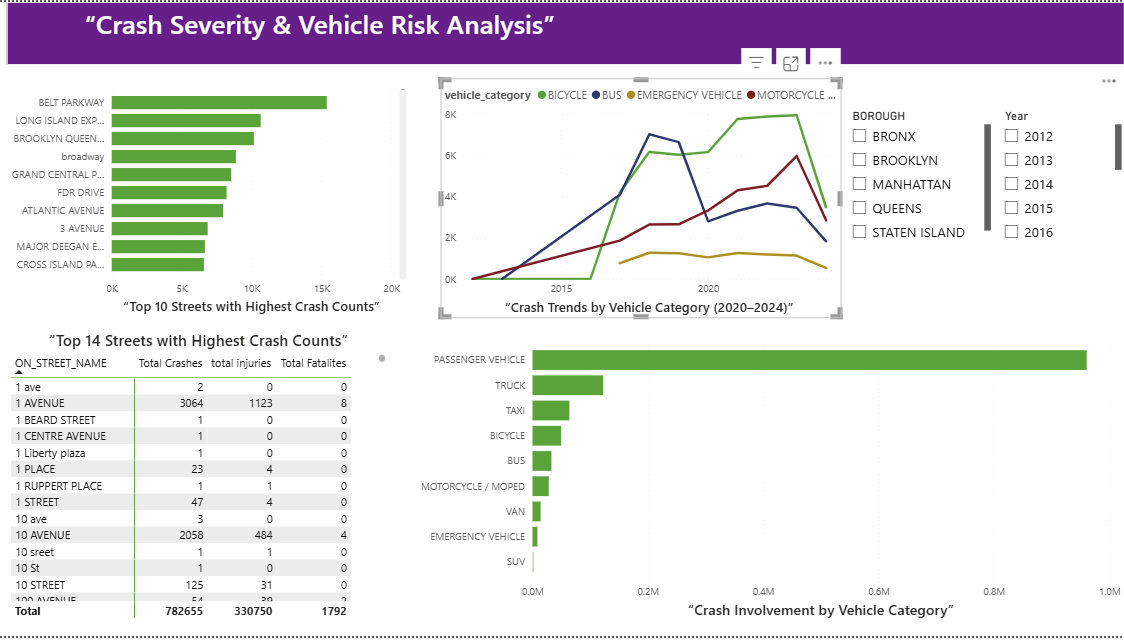

The page's visual inventory and layout, read from the dashboard file:
{"tool":"powerbi","page":{"name":"Page 2","canvas":[1366,769],"ordinal":1},"visuals":[{"type":"shape","title":"High-Risk Crash Locations in NYC (2020–2024)","box":[10.6,0,1356.1,76],"z":0},{"type":"slicer","fields":{"Values":["Motor_Vehicle_Collisions_-_Crashes.CRASH_DATE.Variation.Date Hierarchy.Year"]},"box":[1208.1,124.2,159.7,179],"z":1000},{"type":"slicer","fields":{"Values":["Motor_Vehicle_Collisions_-_Crashes.BOROUGH"]},"box":[1022.6,124.2,185.5,179],"z":2000},{"type":"clusteredBarChart","fields":{"Y":["CountNonNull(Motor_Vehicle_Collisions_-_Crashes.COLLISION_ID)"],"Category":["Motor_Vehicle_Collisions_-_Crashes.ON_STREET_NAME"]},"box":[0,91.9,500,291.9],"z":3000},{"type":"pivotTable","title":"“Top 14 Streets with Highest Crash Counts”","fields":{"Rows":["Motor_Vehicle_Collisions_-_Crashes.ON_STREET_NAME"],"Values":["Motor_Vehicle_Collisions_-_Crashes.Total Crashes","Motor_Vehicle_Collisions_-_Crashes.total injuries","Motor_Vehicle_Collisions_-_Crashes.Total Fatalites"]},"box":[11.3,396.8,464.5,354.8],"z":4000},{"type":"clusteredBarChart","fields":{"Category":["collision_vehicles.vehicle_category"],"Y":["Count(collision_vehicles.COLLISION_ID)"]},"box":[477,397,889,355],"z":5000},{"type":"lineChart","fields":{"Y":["Count(collision_vehicles.COLLISION_ID)"],"Category":["Motor_Vehicle_Collisions_-_Crashes.CRASH_DATE.Variation.Date Hierarchy.Year"],"Series":["collision_vehicles.vehicle_category"]},"box":[537.1,91.9,485.5,291.9],"z":6000},{"type":"textbox","box":[100,0,1201.6,75.8],"z":7000}]}

Visuals, with their boxes in screenshot pixels (x1, y1, x2, y2), scaled from the page's 1366x769 canvas onto the 1124x642 screenshot:
"High-Risk Crash Locations in NYC (2020–2024)" shape: bbox=(9, 0, 1123, 63)
slicer - Motor_Vehicle_Collisions_-_Crashes.CRASH_DATE.Variation.Date Hierarchy.Year: bbox=(994, 104, 1123, 253)
slicer - Motor_Vehicle_Collisions_-_Crashes.BOROUGH: bbox=(841, 104, 994, 253)
clusteredBarChart - CountNonNull(Motor_Vehicle_Collisions_-_Crashes.COLLISION_ID) x Motor_Vehicle_Collisions_-_Crashes.ON_STREET_NAME: bbox=(0, 77, 411, 320)
"“Top 14 Streets with Highest Crash Counts”" pivotTable: bbox=(9, 331, 392, 627)
clusteredBarChart - collision_vehicles.vehicle_category x Count(collision_vehicles.COLLISION_ID): bbox=(392, 331, 1123, 628)
lineChart - Count(collision_vehicles.COLLISION_ID) x Motor_Vehicle_Collisions_-_Crashes.CRASH_DATE.Variation.Date Hierarchy.Year: bbox=(442, 77, 841, 320)
textbox: bbox=(82, 0, 1071, 63)
